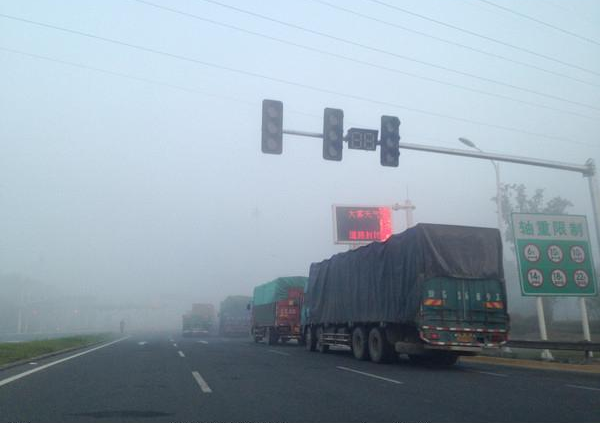bus: (294, 222, 512, 365), (245, 274, 319, 346), (215, 293, 257, 340), (180, 300, 219, 338)
